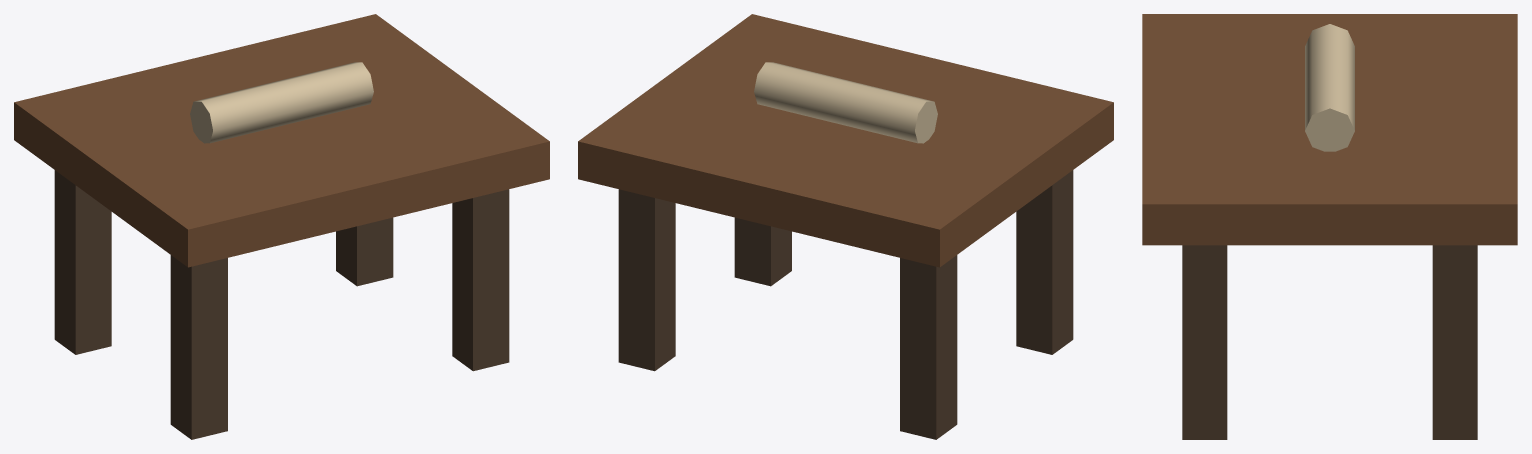
Rendered from scroll-table.glb.
3 views of the same model, side by side, from view 1: azimuth 30°, elevation 25°; view 2: azimuth 150°, elevation 25°; view 3: azimuth 270°, elevation 25° (orthographic). The views are drawn at different scales.
Visible parts, largest first — view 1: scroll-table-surface; view 2: scroll-table-surface; view 3: scroll-table-surface.
Boxes of the visible parts, <box> form: scroll-table-surface: <box>14,14,549,439</box>; scroll-table-surface: <box>578,14,1113,439</box>; scroll-table-surface: <box>1142,14,1517,439</box>.
Size of the model in its own units: 1.8 by 1.28 by 1.5.
